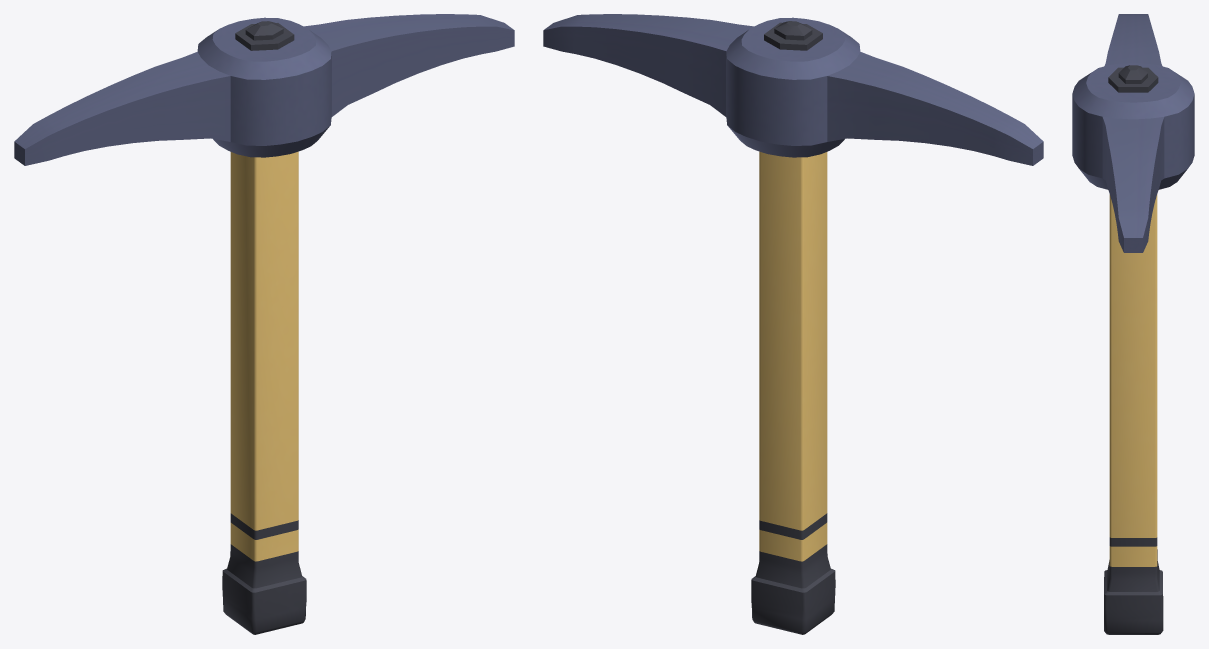
Rendered from Hammer_Lvl_5.fbx.
3 views of the same model, side by side, from view 1: azimuth 30°, elevation 25°; view 2: azimuth 150°, elevation 25°; view 3: azimuth 270°, elevation 25° (orthographic). The views are drawn at different scales.
Parts seen in each view (by area): view 1: Hammer_Lvl5_Head, Hammer_Lvl5_Handle; view 2: Hammer_Lvl5_Head, Hammer_Lvl5_Handle; view 3: Hammer_Lvl5_Handle, Hammer_Lvl5_Head.
Part boxes in pixels (x1,y1,x2,y2): Hammer_Lvl5_Head: [14, 14, 514, 165]; Hammer_Lvl5_Handle: [222, 151, 306, 634]; Hammer_Lvl5_Head: [543, 14, 1043, 165]; Hammer_Lvl5_Handle: [751, 151, 835, 634]; Hammer_Lvl5_Handle: [1104, 194, 1163, 634]; Hammer_Lvl5_Head: [1072, 14, 1194, 252].
Bounding box in the file's own units: 65.76 × 76.5 × 15.22.
